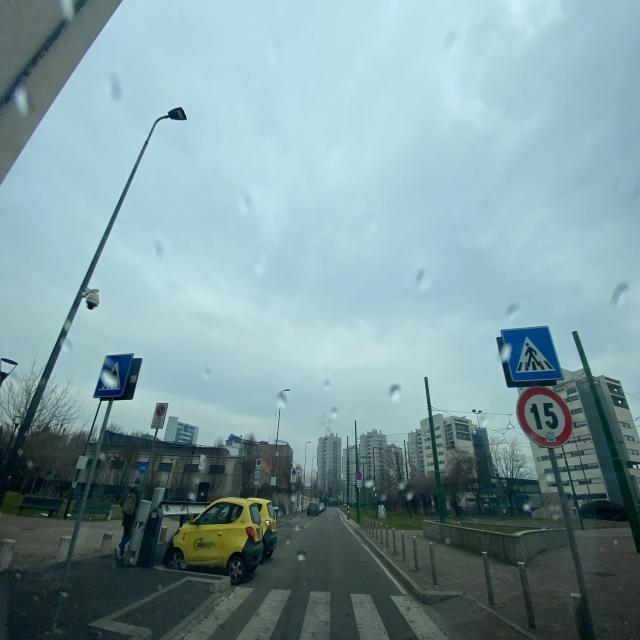forb_stopping: (357, 473, 361, 479)
